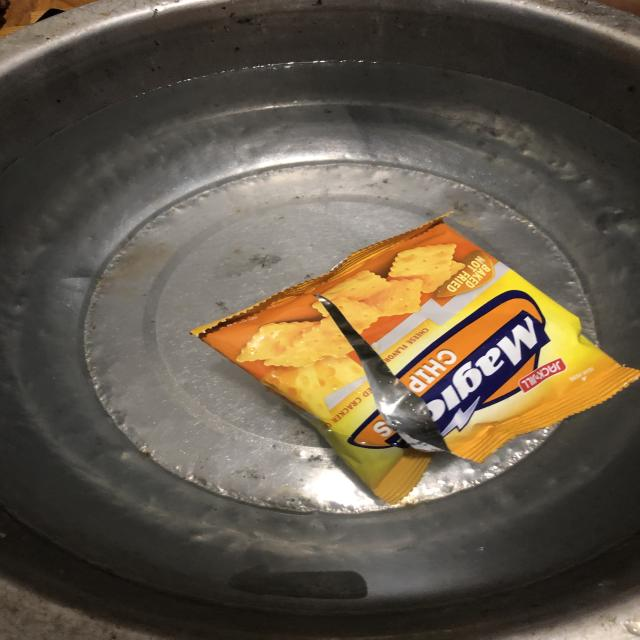Plastic Wrapper: (193, 217, 640, 504)
